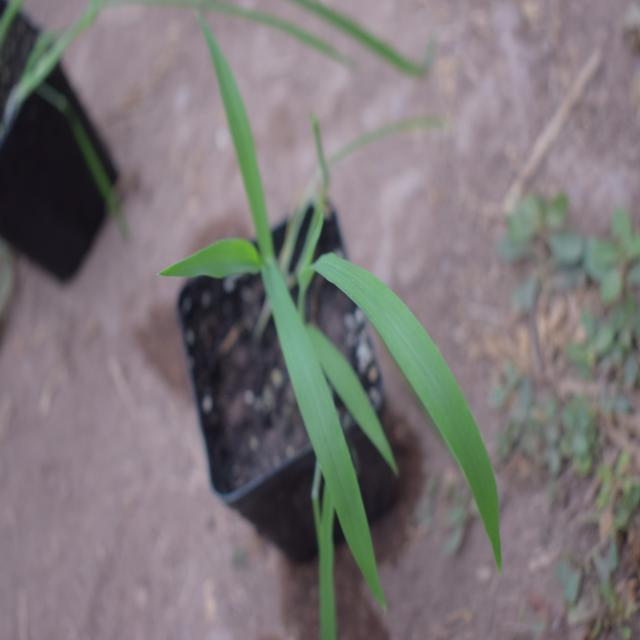crabgrass: (161, 87, 501, 537)
